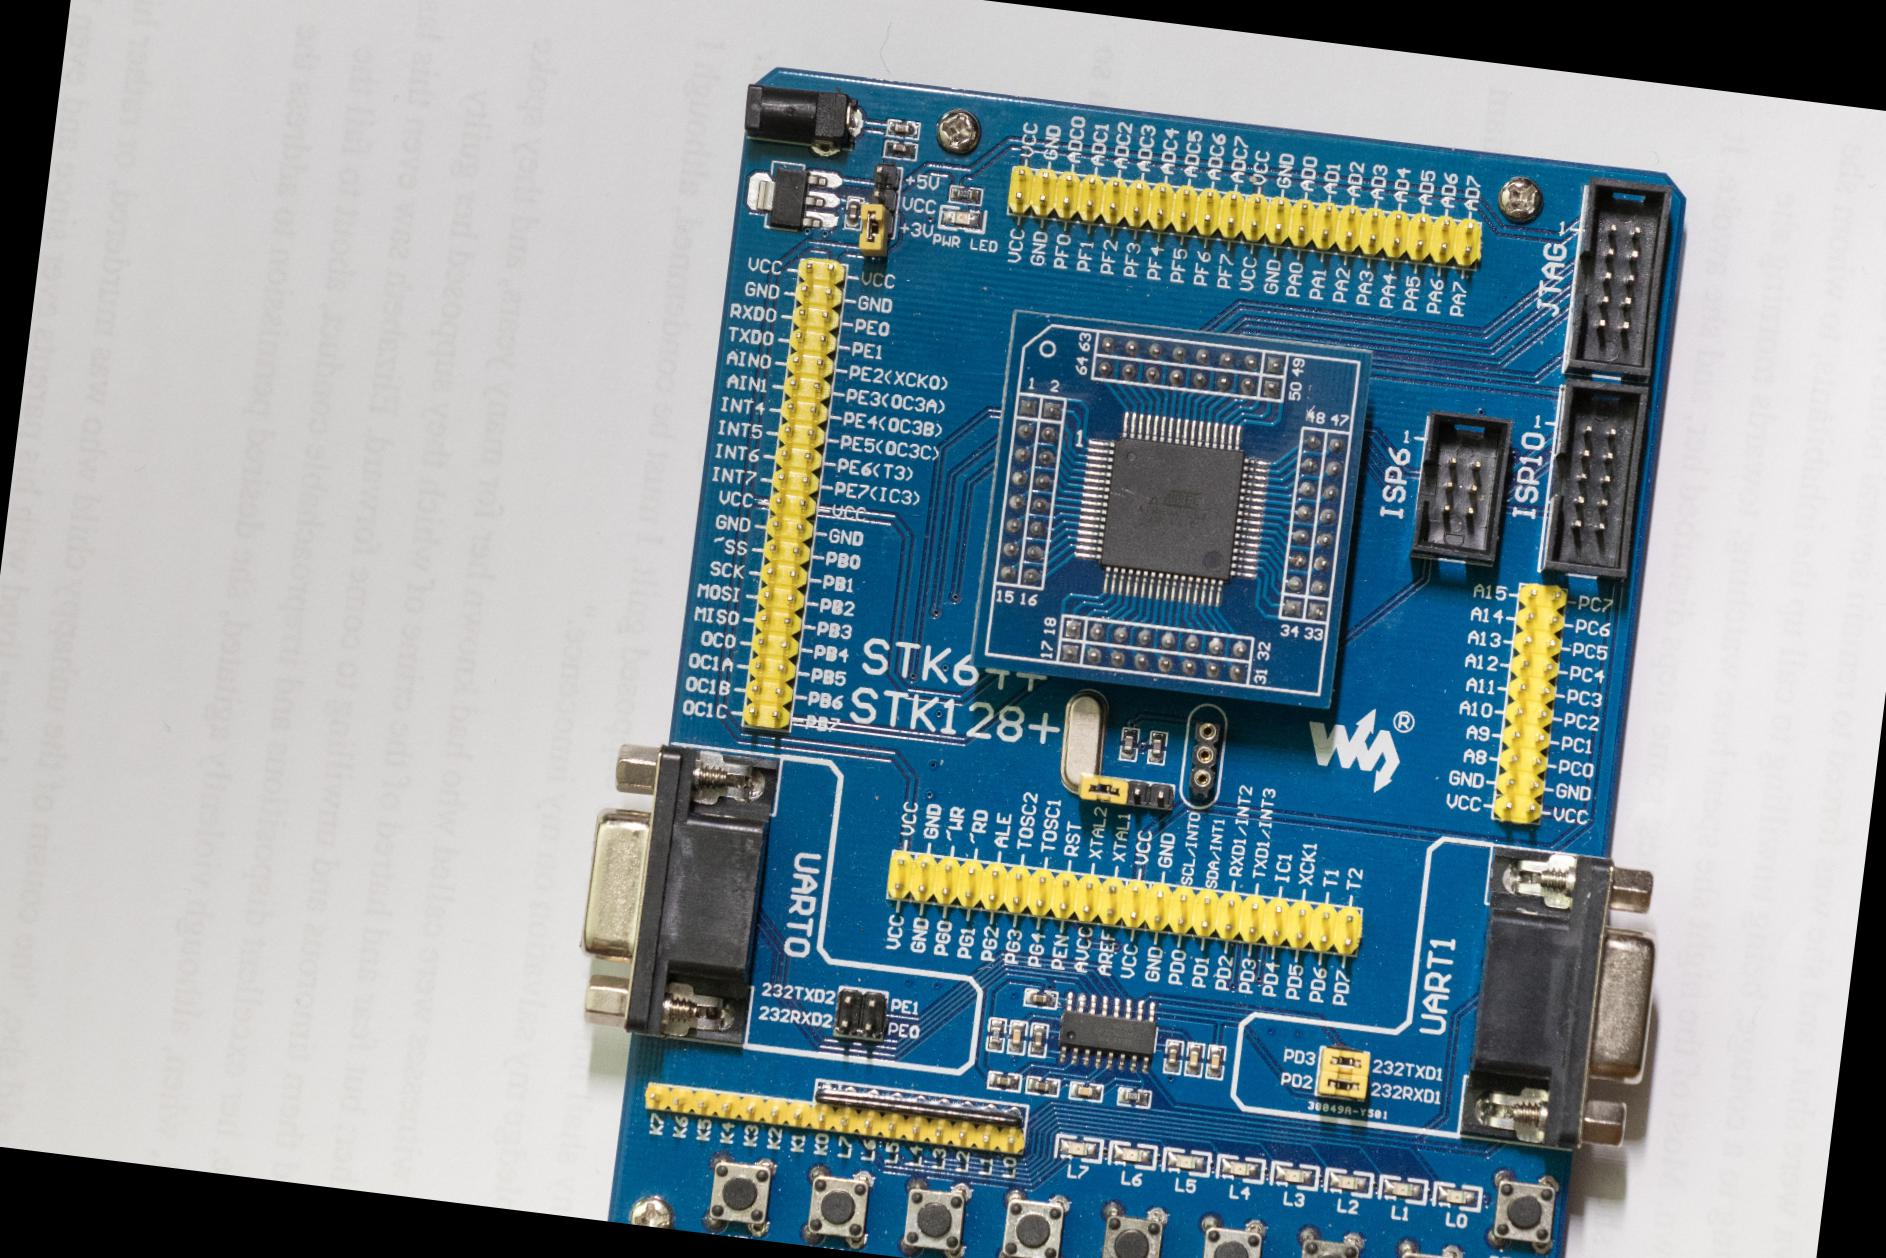Button: (797, 1164, 874, 1252), (702, 1151, 779, 1238), (1486, 1168, 1560, 1255), (897, 1177, 974, 1257), (994, 1186, 1072, 1257), (1095, 1200, 1170, 1257), (1189, 1213, 1269, 1257), (1285, 1223, 1368, 1257), (1389, 1236, 1466, 1257)
Capacitor: (1183, 1042, 1205, 1078), (1162, 1039, 1184, 1075), (1204, 1045, 1226, 1081), (1024, 1074, 1059, 1097), (987, 1070, 1022, 1092), (1006, 1019, 1027, 1056), (1027, 1022, 1048, 1059), (1066, 1081, 1103, 1102), (843, 194, 863, 230), (1023, 988, 1057, 1009), (885, 118, 919, 139), (883, 142, 916, 161)
Clock: (1055, 687, 1111, 797)
Connector: (1455, 842, 1674, 1157), (570, 734, 784, 1050), (884, 849, 1364, 958), (1006, 161, 1486, 270), (742, 257, 846, 734), (641, 1080, 1027, 1157), (1539, 380, 1650, 581), (1566, 177, 1674, 379), (1489, 580, 1569, 828), (1412, 409, 1511, 564), (741, 81, 860, 153), (1175, 701, 1231, 812), (832, 988, 890, 1042), (1124, 776, 1176, 812), (871, 161, 902, 190), (866, 185, 898, 212)
IC: (1071, 409, 1274, 609), (1054, 991, 1161, 1075), (742, 157, 843, 234)
Jumper: (853, 205, 892, 258), (1075, 772, 1128, 806), (1318, 1046, 1371, 1077), (1313, 1071, 1367, 1102)
Led: (1431, 1179, 1485, 1212), (1269, 1161, 1320, 1193), (1215, 1153, 1266, 1185), (1378, 1174, 1429, 1206), (1322, 1167, 1374, 1198), (1107, 1140, 1158, 1170), (1163, 1147, 1212, 1175), (1057, 1134, 1102, 1163), (939, 205, 985, 232)
Pins: (1278, 425, 1353, 626), (1090, 329, 1290, 403), (1057, 614, 1255, 687), (995, 392, 1066, 591)
Resistor Network: (1117, 1087, 1152, 1109), (985, 1017, 1006, 1053), (947, 185, 984, 206)
Unknown Unlabeled: (1117, 727, 1139, 762), (1145, 730, 1166, 767)
